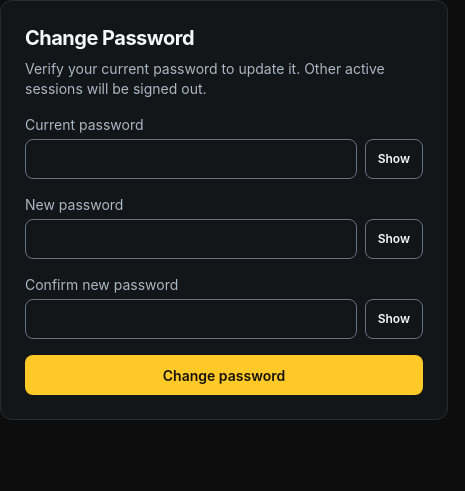
Test case: ChangePasswordForm › uses a safe response when the current credential cannot be verified
Type "wrongpass" into the password field labelled "Current password" at (191, 159), box [25,139,357,179]
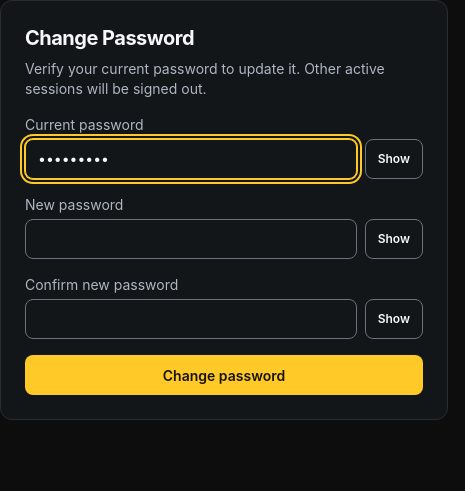
Type "newpass123" into the password field labelled "New password" at (191, 239), box [25,219,357,259]
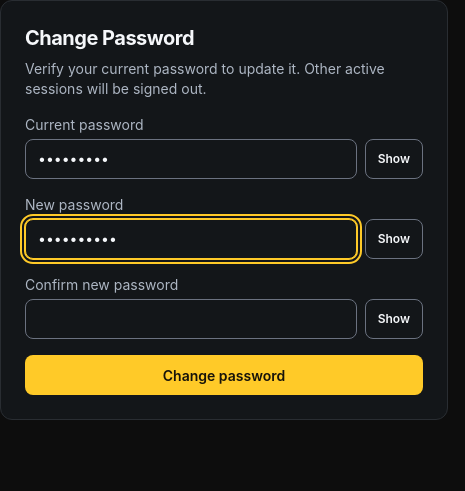
Type "newpass123" into the password field labelled "Confirm new password" at (191, 319), box [25,299,357,339]
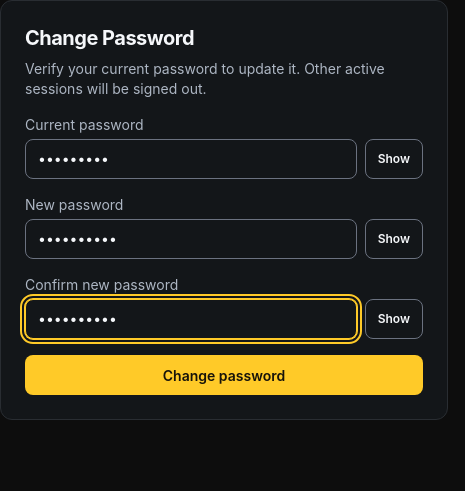
Click the button "Change password" at (224, 375), box [25,355,423,395]
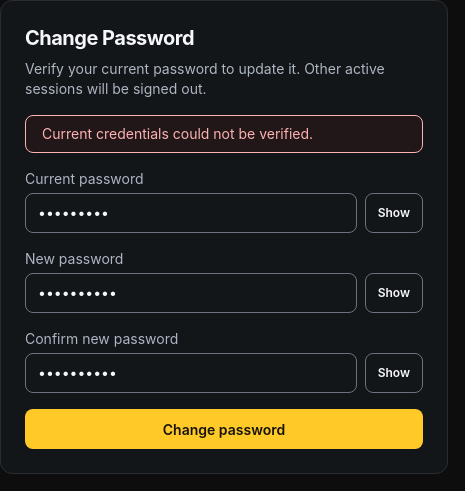
Now the message reads "Current credentials could not be verified.", box [42,125,313,142]
